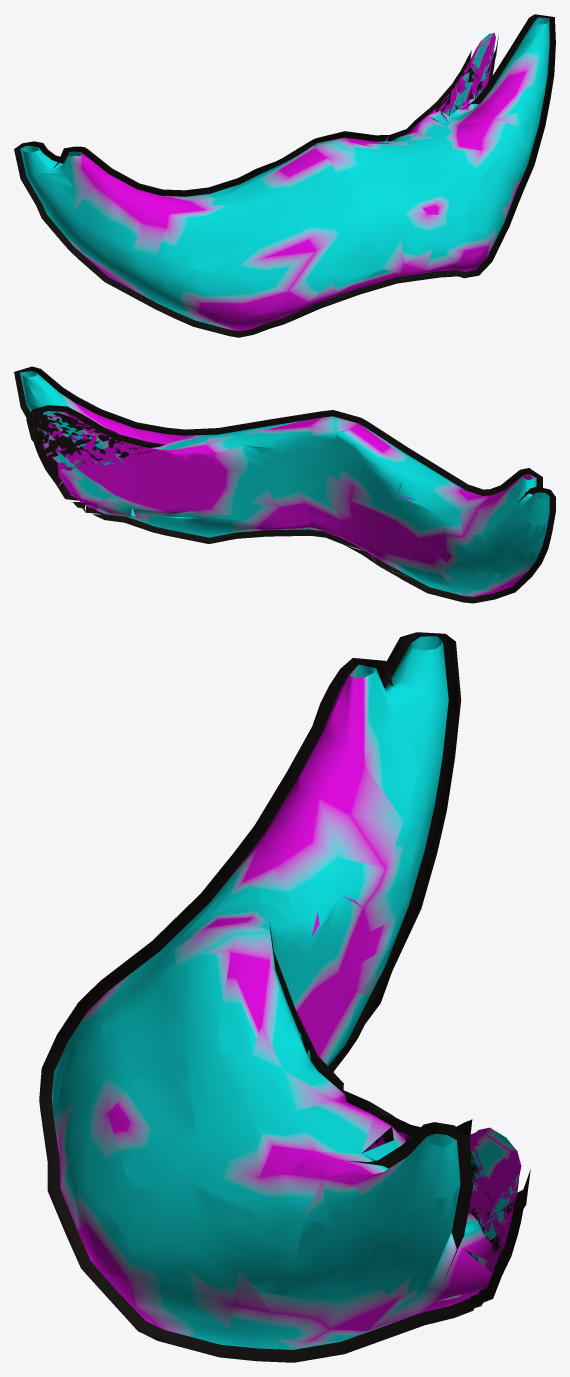
File: beard_moustache_male_hi.glb
The picture shows the model from 3 angles, top to bottom: view 1: azimuth 30°, elevation 25°; view 2: azimuth 150°, elevation 25°; view 3: azimuth 270°, elevation 25°; orthographic projection. The views are drawn at different scales.
Visible parts, largest first — view 1: beard_moustache_male_hi; view 2: beard_moustache_male_hi; view 3: beard_moustache_male_hi.
Boxes of the visible parts, x1,y1,x2,y2 form: beard_moustache_male_hi: [14, 14, 555, 337]; beard_moustache_male_hi: [14, 366, 555, 603]; beard_moustache_male_hi: [39, 632, 530, 1362].
Bounding box in the file's own units: 0.3361 × 0.1052 × 0.1337.
